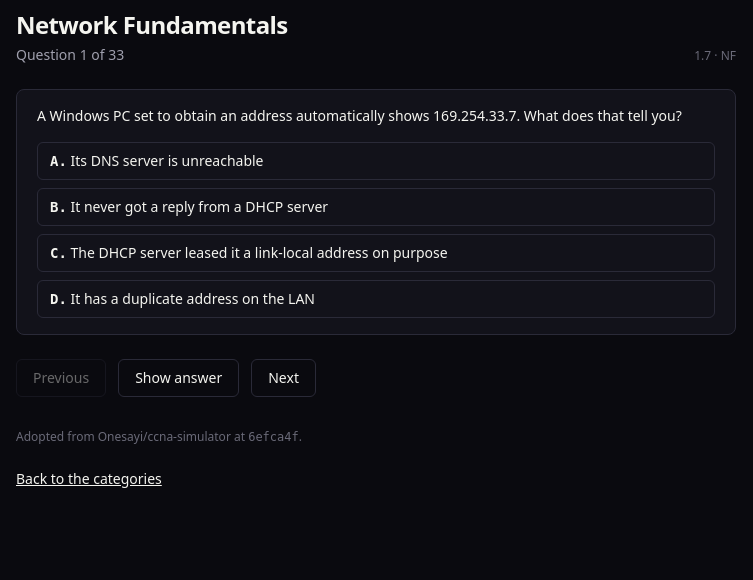
LearnMode › keeps a revisited question revealed, with its options still disabled
Click the button "Show answer".
click(179, 378)  # box top-left (118, 359), bottom-right (239, 397)
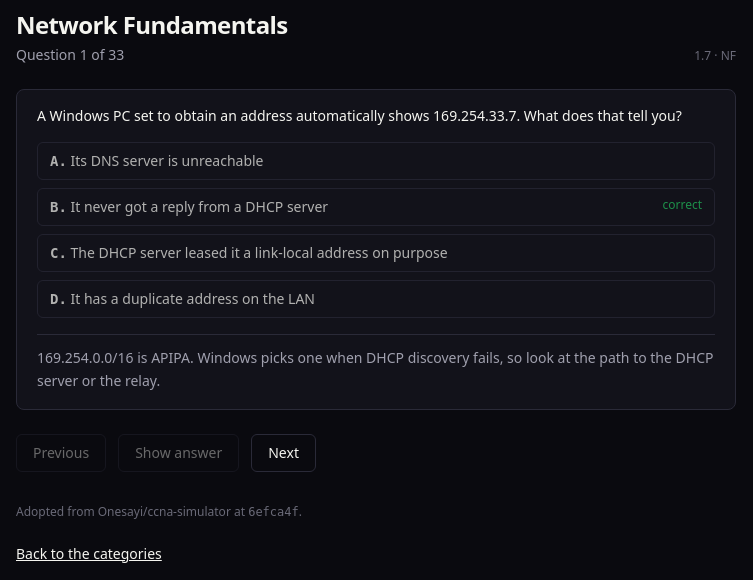
Click the button "Next".
click(284, 452)  # box top-left (251, 434), bottom-right (316, 472)
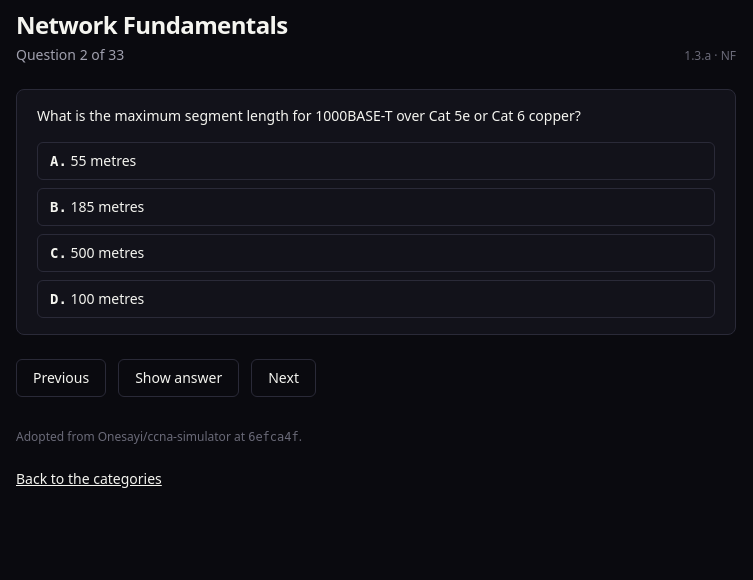
Click the button "Show answer".
click(179, 378)  # box top-left (118, 359), bottom-right (239, 397)
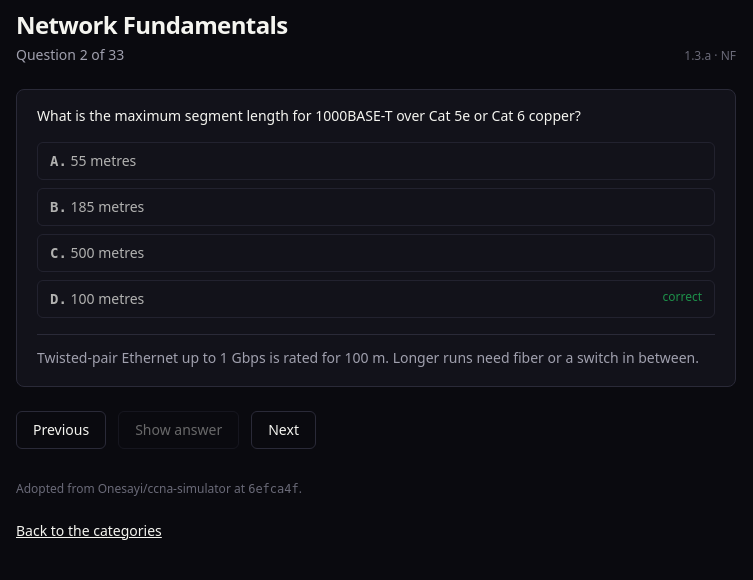
Click the button "Previous".
click(61, 430)  # box top-left (16, 411), bottom-right (106, 449)
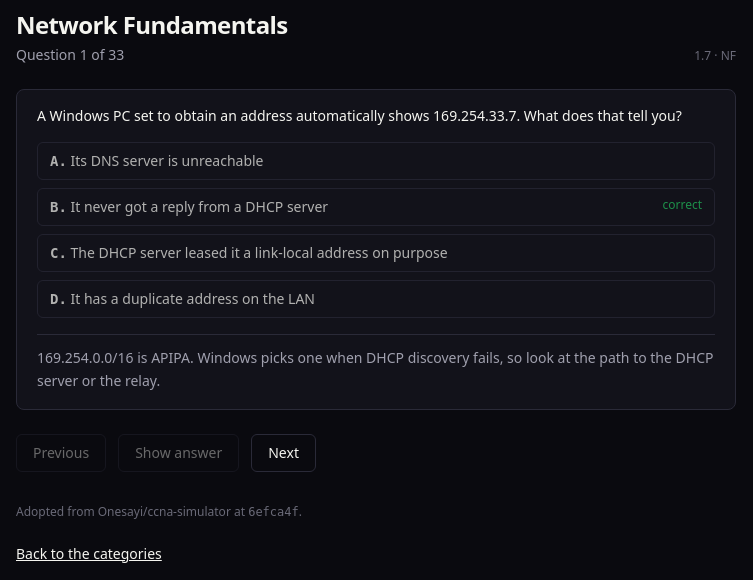
Check: the button "B. It never got a reply from a DHCP server correct" is disabled, box top-left (37, 188), bottom-right (715, 226)
Check: the text "Question 1 of 33" is shown, box top-left (16, 45), bottom-right (124, 65)
Check: the text "169.254.0.0/16 is APIPA. Windows picks one when DHCP discovery fails, so look at the path to the DHCP server or the rela" is shown, box top-left (37, 348), bottom-right (714, 390)
